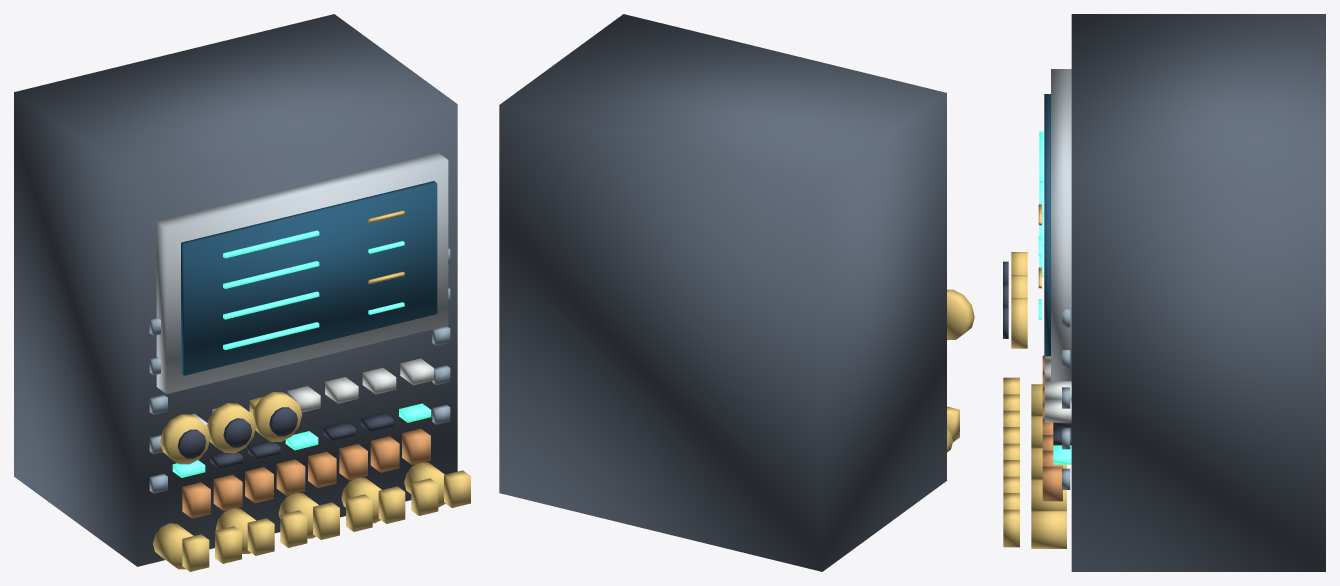
File: 71_L86_IndependentContactSafetyRelay.glb
3 renders of one model, left to right at view 1: azimuth 30°, elevation 25°; view 2: azimuth 150°, elevation 25°; view 3: azimuth 270°, elevation 25°, orthographic. The views are drawn at different scales.
Visible parts, largest first — view 1: L86_IndependentContactSafetyR_Part_0000, L86_IndependentContactSafetyR_Part_0002, L86_IndependentContactSafetyR_Part_0001, L86_IndependentContactSafetyR_Part_0004, L86_IndependentContactSafetyR_Part_0009, L86_IndependentContactSafetyR_Part_0003, L86_IndependentContactSafetyR_Part_0006, L86_IndependentContactSafetyR_Part_0008, L86_IndependentContactSafetyR_Part_0007, L86_IndependentContactSafetyR_Part_0011, L86_IndependentContactSafetyR_Part_0015, L86_IndependentContactSafetyR_Part_0013 (+4 smaller); view 2: L86_IndependentContactSafetyR_Part_0000, L86_IndependentContactSafetyR_Part_0011; view 3: L86_IndependentContactSafetyR_Part_0000, L86_IndependentContactSafetyR_Part_0001, L86_IndependentContactSafetyR_Part_0004, L86_IndependentContactSafetyR_Part_0002, L86_IndependentContactSafetyR_Part_0009, L86_IndependentContactSafetyR_Part_0006, L86_IndependentContactSafetyR_Part_0003, L86_IndependentContactSafetyR_Part_0008, L86_IndependentContactSafetyR_Part_0015, L86_IndependentContactSafetyR_Part_0005.
Part boxes in pixels (bbox=[...]): L86_IndependentContactSafetyR_Part_0000: bbox=[14, 14, 457, 566]; L86_IndependentContactSafetyR_Part_0002: bbox=[181, 181, 437, 375]; L86_IndependentContactSafetyR_Part_0001: bbox=[156, 153, 448, 393]; L86_IndependentContactSafetyR_Part_0004: bbox=[153, 210, 445, 571]; L86_IndependentContactSafetyR_Part_0009: bbox=[182, 428, 430, 518]; L86_IndependentContactSafetyR_Part_0003: bbox=[172, 230, 431, 477]; L86_IndependentContactSafetyR_Part_0006: bbox=[191, 358, 433, 425]; L86_IndependentContactSafetyR_Part_0008: bbox=[149, 248, 450, 493]; L86_IndependentContactSafetyR_Part_0007: bbox=[210, 412, 393, 468]; L86_IndependentContactSafetyR_Part_0011: bbox=[160, 414, 210, 464]; L86_IndependentContactSafetyR_Part_0015: bbox=[253, 392, 302, 441]; L86_IndependentContactSafetyR_Part_0013: bbox=[207, 403, 256, 453]; L86_IndependentContactSafetyR_Part_0000: bbox=[499, 14, 946, 571]; L86_IndependentContactSafetyR_Part_0011: bbox=[947, 289, 974, 340]; L86_IndependentContactSafetyR_Part_0000: bbox=[1071, 14, 1325, 571]; L86_IndependentContactSafetyR_Part_0001: bbox=[1051, 69, 1071, 381]; L86_IndependentContactSafetyR_Part_0004: bbox=[1003, 204, 1066, 548]; L86_IndependentContactSafetyR_Part_0002: bbox=[1044, 94, 1050, 356]; L86_IndependentContactSafetyR_Part_0009: bbox=[1042, 355, 1062, 501]; L86_IndependentContactSafetyR_Part_0006: bbox=[1044, 356, 1071, 422]; L86_IndependentContactSafetyR_Part_0003: bbox=[1038, 131, 1071, 464]; L86_IndependentContactSafetyR_Part_0008: bbox=[1062, 309, 1070, 489]; L86_IndependentContactSafetyR_Part_0015: bbox=[1011, 298, 1027, 348]; L86_IndependentContactSafetyR_Part_0005: bbox=[1003, 509, 1019, 547].
Size of the model in its own units: 0.9792 by 1.12 by 0.8284.
